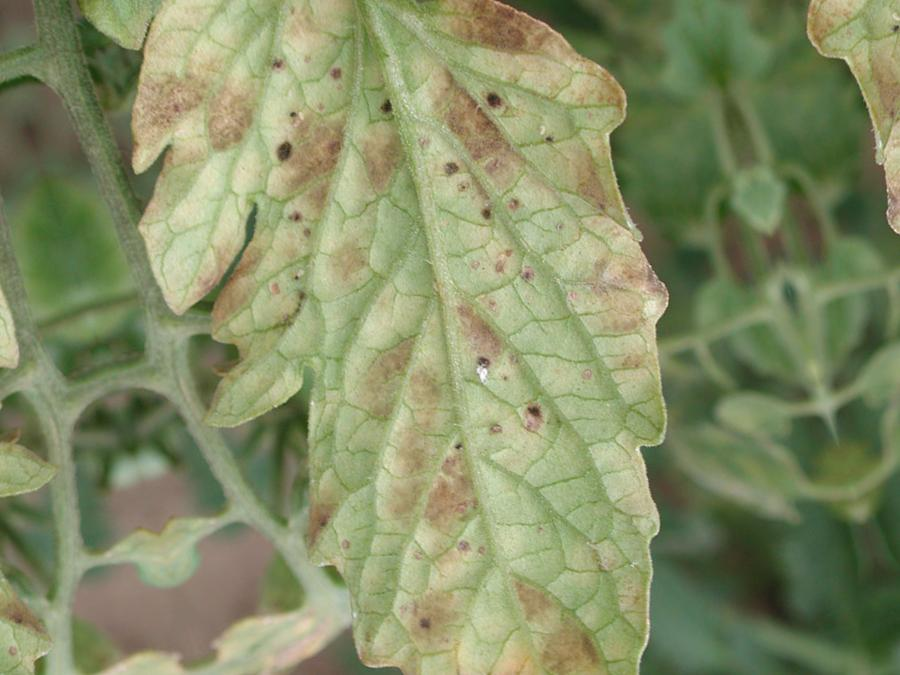Tomato mold leaf: (27, 0, 841, 675)
